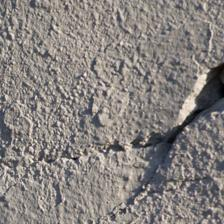Crack: (110, 100, 222, 217), (2, 120, 180, 173), (172, 64, 223, 139)
